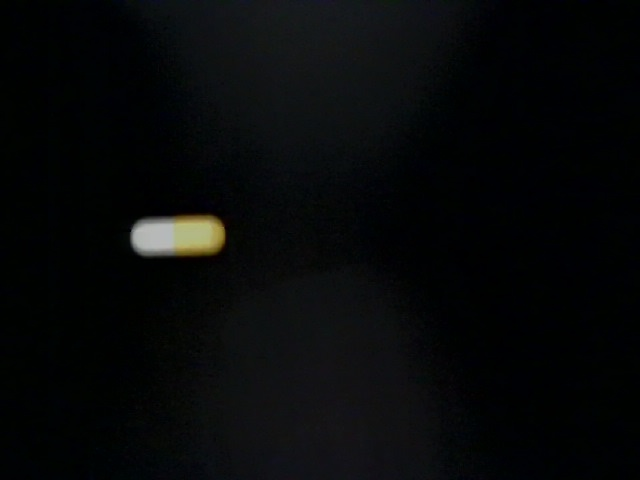YHLJ: (311, 298, 415, 379)
